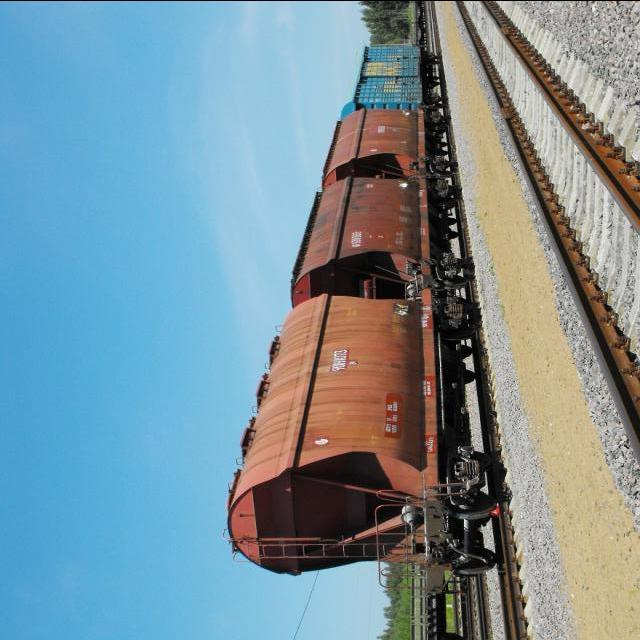wagon: (331, 348, 348, 370), (350, 230, 362, 243)
